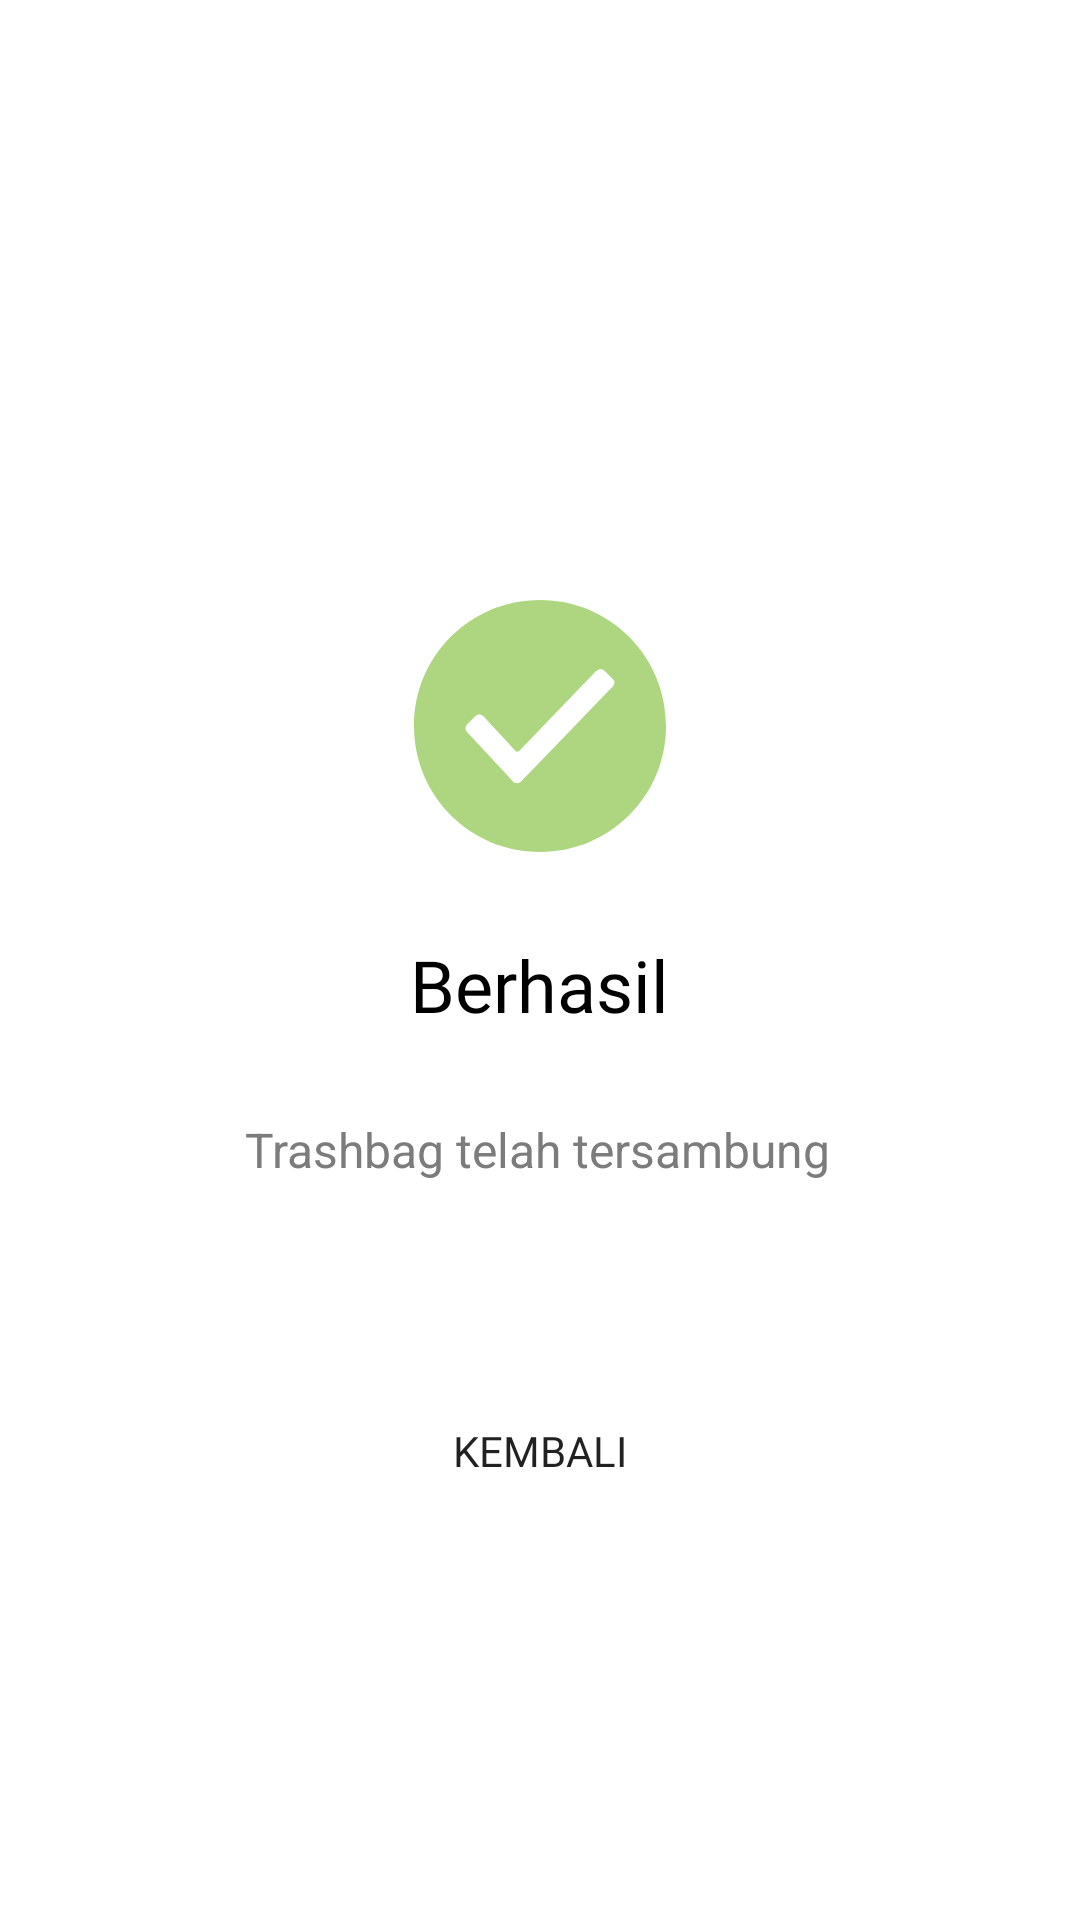

Where icons sit on this 1080 x 1920 app screen, as (x1, y1, x2, y2):
success: (414, 600, 666, 852)
